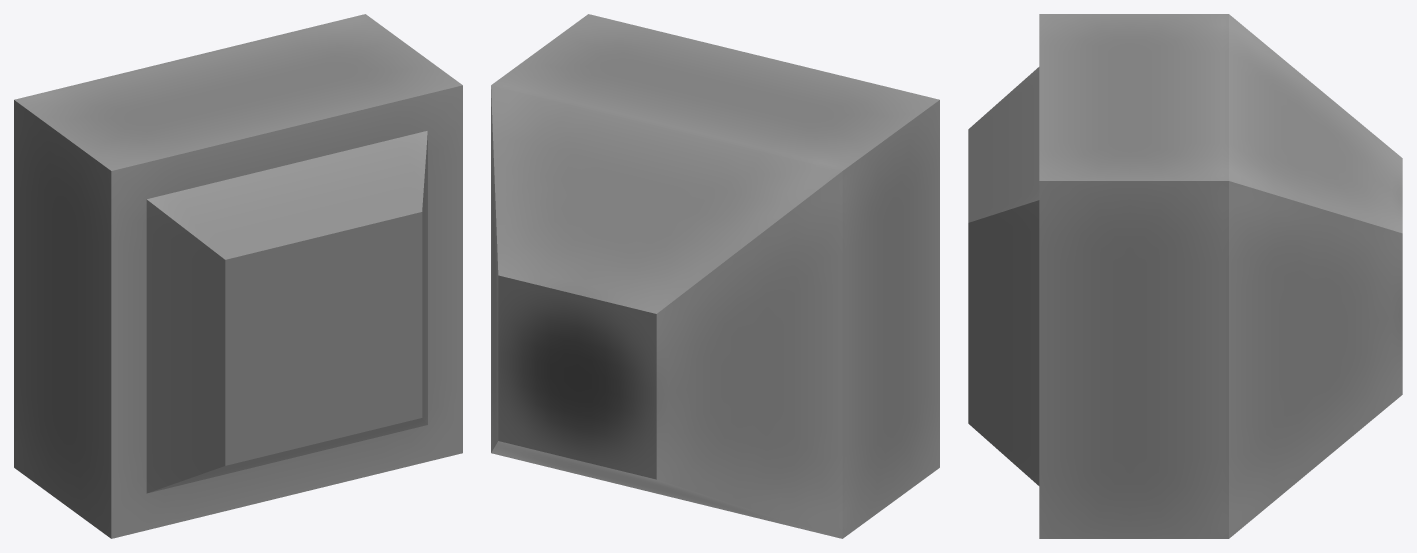
Rendered from Tantares_SolarBasic_A_Base.obj.
The picture shows the model from 3 angles, left to right: view 1: azimuth 30°, elevation 25°; view 2: azimuth 150°, elevation 25°; view 3: azimuth 270°, elevation 25°; orthographic projection. The views are drawn at different scales.
Visible parts, largest first — view 1: Tantares_SolarBasic_A_Base; view 2: Tantares_SolarBasic_A_Base; view 3: Tantares_SolarBasic_A_Base.
Boxes of the visible parts, <box> form: Tantares_SolarBasic_A_Base: <box>14,14,462,538</box>; Tantares_SolarBasic_A_Base: <box>491,14,939,538</box>; Tantares_SolarBasic_A_Base: <box>968,14,1402,538</box>.
Size of the model in its own units: 0.1 by 0.1 by 0.11.
Materials: 1 (1 with a texture image).
